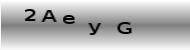2: (23, 8, 36, 22)
A: (40, 9, 57, 22)
G: (116, 20, 132, 34)
e: (61, 14, 75, 24)
y: (86, 22, 101, 35)
